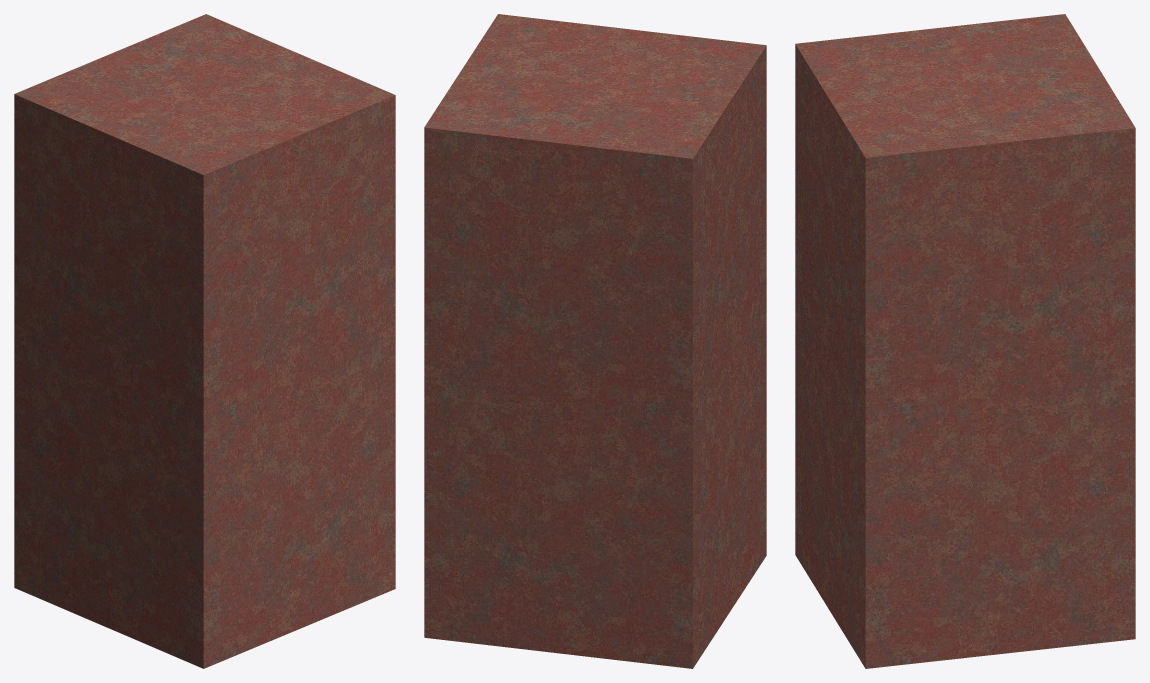
File: cage_tall.glb
The picture shows the model from 3 angles, left to right: view 1: azimuth 30°, elevation 25°; view 2: azimuth 150°, elevation 25°; view 3: azimuth 270°, elevation 25°; orthographic projection. The views are drawn at different scales.
Visible parts, largest first — view 1: cage_tall_Baked; view 2: cage_tall_Baked; view 3: cage_tall_Baked.
Boxes of the visible parts, left/top/right/bottom form: cage_tall_Baked: left=14, top=14, right=395, bottom=668; cage_tall_Baked: left=424, top=14, right=766, bottom=668; cage_tall_Baked: left=795, top=14, right=1135, bottom=668.
Size of the model in its own units: 1.22 by 2.02 by 1.22.
Materials: 1 (1 with a texture image).
